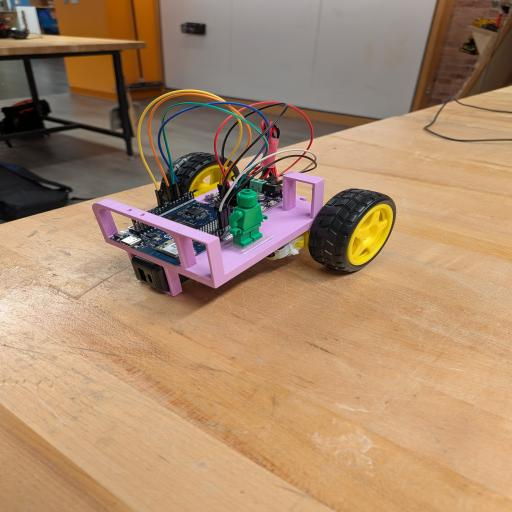Minifig: (229, 189, 267, 247)
